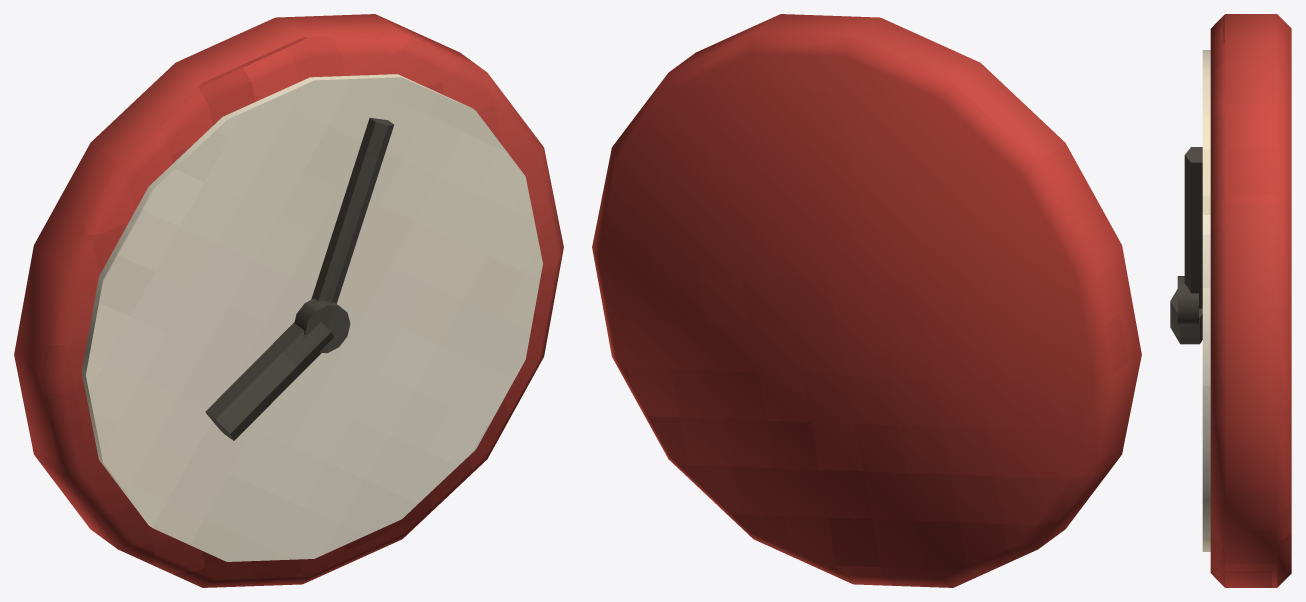
Rendered from clock_wall.glb.
3 renders of one model, left to right at view 1: azimuth 30°, elevation 25°; view 2: azimuth 150°, elevation 25°; view 3: azimuth 270°, elevation 25°, orthographic. The views are drawn at different scales.
Parts seen in each view (by area): view 1: clock_wall; view 2: clock_wall; view 3: clock_wall.
Part boxes in pixels (x1,y1,x2,y2): clock_wall: (14,14,563,587); clock_wall: (592,14,1141,587); clock_wall: (1170,14,1291,587).
Size of the model in its own units: 0.3199 by 0.32 by 0.0675.
3 materials, 3 textured.
